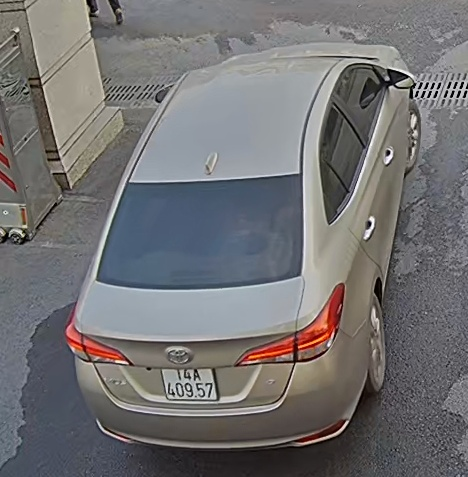vehicle plate: (157, 361, 222, 405)
